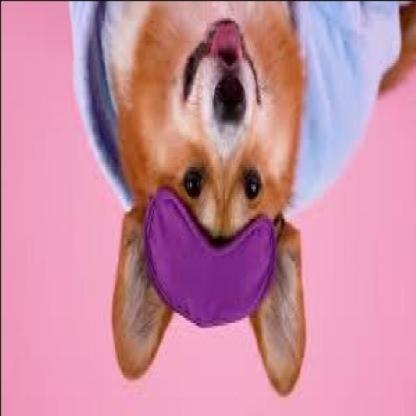dog: (68, 0, 412, 395)
